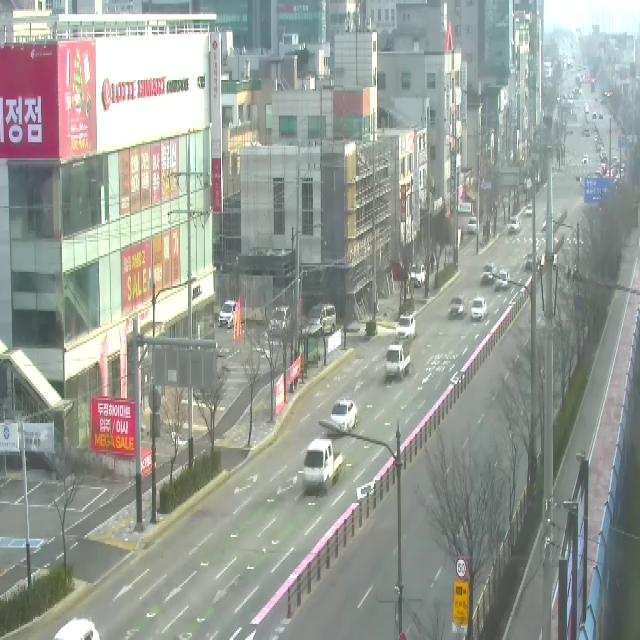Car: (52, 618, 100, 640), (330, 398, 357, 434), (308, 306, 336, 340), (268, 307, 292, 338), (218, 300, 239, 330), (396, 314, 416, 340), (448, 294, 467, 318), (409, 264, 426, 288), (480, 262, 497, 285), (471, 299, 486, 320), (495, 270, 509, 291), (467, 217, 479, 234), (507, 218, 519, 232), (525, 252, 532, 272), (525, 204, 532, 217), (542, 216, 546, 232)
Truck: (304, 439, 342, 492), (386, 345, 410, 380)
